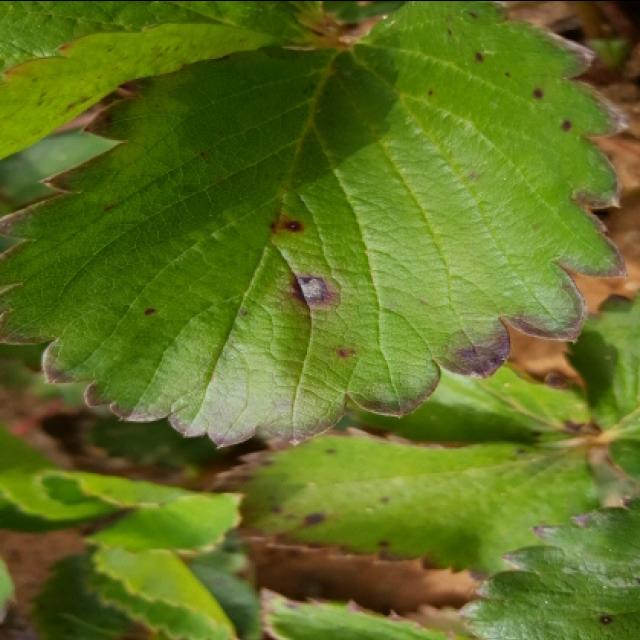Leaf Spot: (0, 2, 626, 450), (204, 424, 602, 585), (0, 2, 323, 159), (456, 493, 638, 640), (341, 354, 605, 446), (260, 585, 468, 640)
